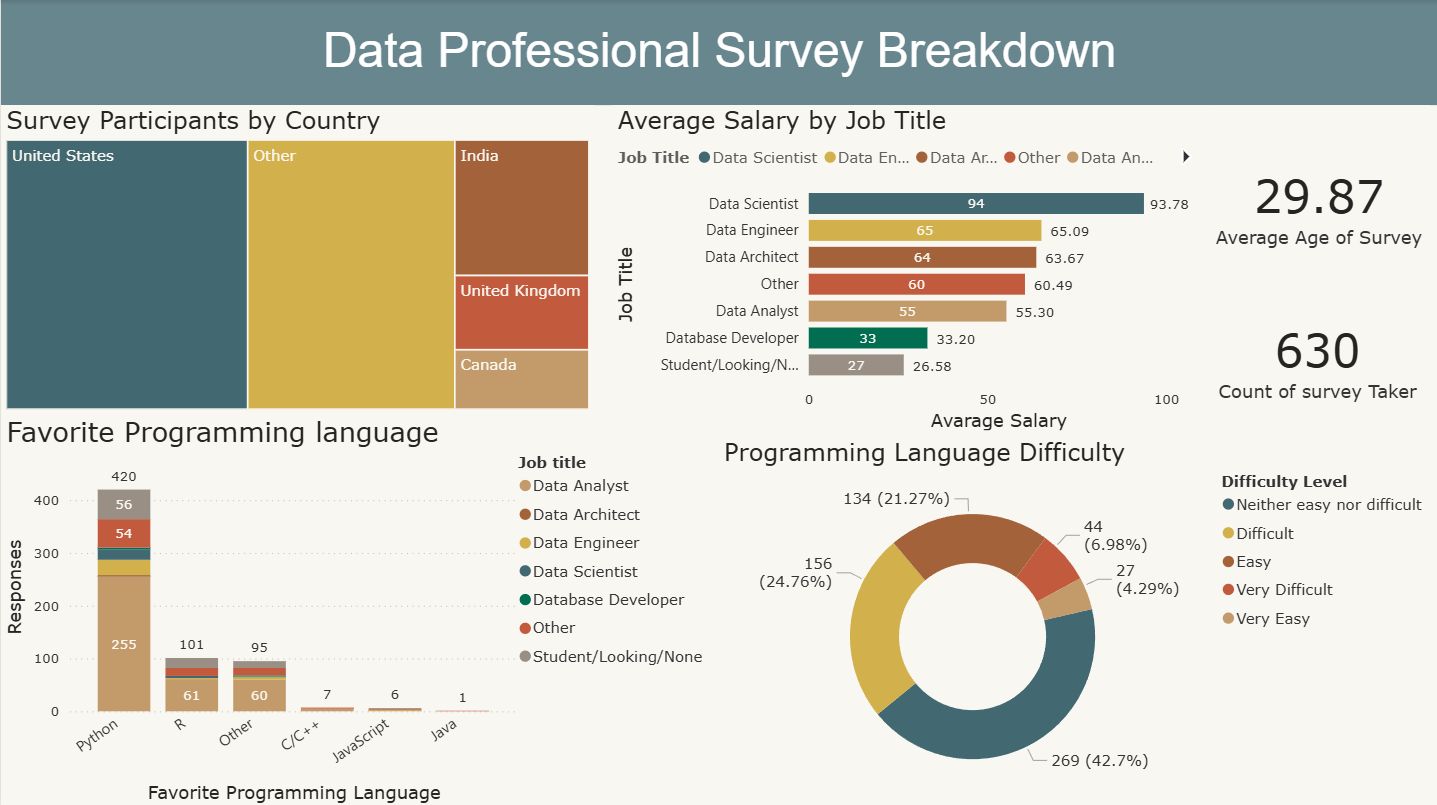

The dashboard page shown, as its layout file describes it:
{"tool":"powerbi","page":{"name":"Page 1","canvas":[1280,720],"ordinal":0},"visuals":[{"type":"textbox","box":[0,0,1280.2,93.5],"z":0},{"type":"barChart","title":"Average Salary by Job Title","fields":{"Y":["Avg(Data Professional Survey.Avarage Salary)"],"Category":["Data Professional Survey.Job title"],"Series":["Data Professional Survey.Job title"]},"box":[544.3,93.5,531,295],"z":1000},{"type":"card","title":"Average Salary by Country","fields":{"Values":["Count(Data Professional Survey.Unique ID)"]},"box":[1075.3,241.6,194.8,158.1],"z":3000},{"type":"card","title":"Average Salary by Country","fields":{"Values":["Avg(Data Professional Survey.Q10 - Current Age)"]},"box":[1075.3,93.5,197,180.3],"z":4000},{"type":"donutChart","title":"Programming Language Difficulty","fields":{"Y":["CountNonNull(Data Professional Survey.Q5 - Favorite Programming Language.1)"],"Category":["Data Professional Survey.Q7 - How difficult was it for you to break into Data?"]},"box":[639.4,389,640.9,330.9],"z":5000},{"type":"columnChart","title":"Favorite Programming language ","fields":{"Category":["Data Professional Survey.Q5 - Favorite Programming Language.1"],"Y":["CountNonNull(Data Professional Survey.Q5 - Favorite Programming Language.1)"],"Series":["Data Professional Survey.Job title"]},"box":[0,369.6,639.4,350.3],"z":6000},{"type":"treemap","title":"Survey Participants by Country","fields":{"Group":["Data Professional Survey.Country"],"Values":["CountNonNull(Data Professional Survey.Country)"]},"box":[0,93.5,528.8,276.1],"z":7000}]}

Visuals, with their boxes in screenshot pixels (x1, y1, x2, y2), scaled from the page's 1280x720 canvas onto the 1437x805 screenshot:
textbox: rect(0, 0, 1436, 105)
"Average Salary by Job Title" barChart: rect(611, 105, 1207, 434)
"Average Salary by Country" card: rect(1207, 270, 1426, 447)
"Average Salary by Country" card: rect(1207, 105, 1428, 306)
"Programming Language Difficulty" donutChart: rect(718, 435, 1436, 804)
"Favorite Programming language " columnChart: rect(0, 413, 718, 804)
"Survey Participants by Country" treemap: rect(0, 105, 594, 413)
